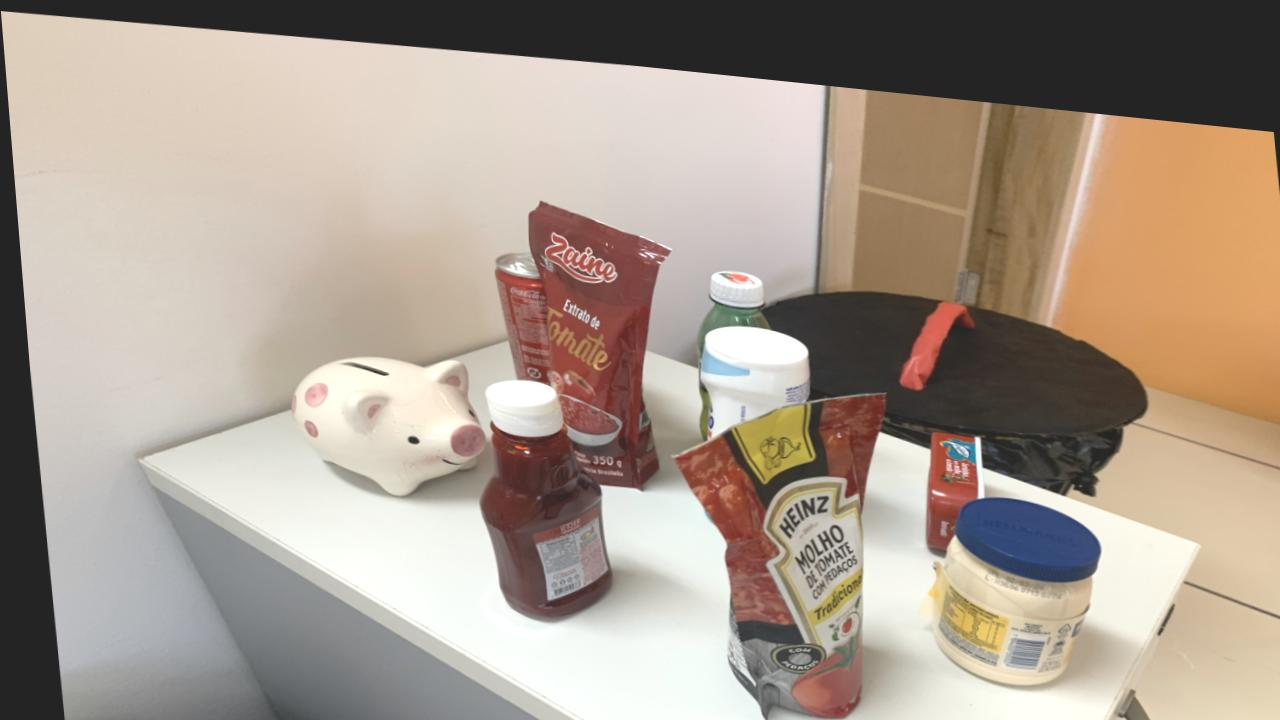Cleaner-Cleanup_Items: (695, 310, 805, 422)
Coke-Drinks: (491, 240, 546, 373)
Guarana-Drinks: (691, 255, 767, 349), (693, 370, 704, 422)
Ketchup-Pantry_Items: (473, 369, 604, 608)
Mayonnaise-Pantry_Items: (924, 476, 1095, 665)
Pig_Safe-Miscellaneous: (285, 349, 481, 488)
Tomato_Sauce-Pantry_Items: (668, 377, 880, 702), (525, 191, 666, 476)
Tuna_Can-Pantry_Items: (917, 412, 976, 531)
